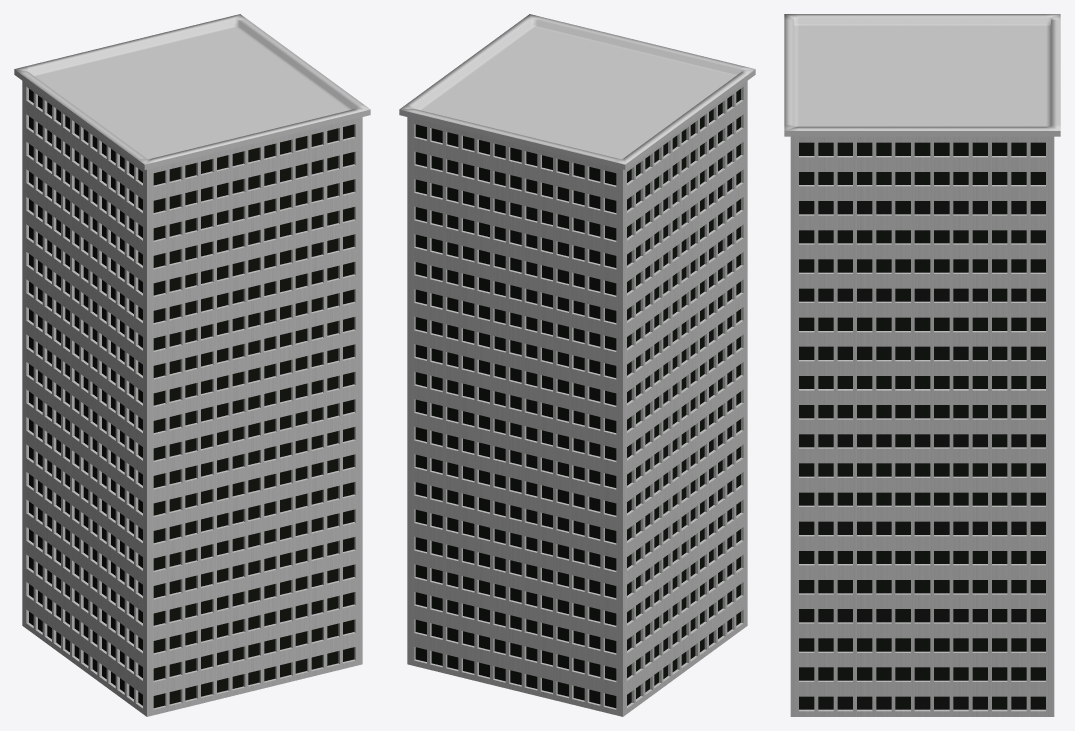
Rendered from building_2.obj.
The picture shows the model from 3 angles, left to right: view 1: azimuth 30°, elevation 25°; view 2: azimuth 150°, elevation 25°; view 3: azimuth 270°, elevation 25°; orthographic projection. The views are drawn at different scales.
Parts seen in each view (by area): view 1: building_2; view 2: building_2; view 3: building_2.
Part boxes in pixels (<box>): building_2: <box>14,14,370,716</box>; building_2: <box>399,14,755,716</box>; building_2: <box>784,14,1060,716</box>.
Bounding box in the file's own units: 43 × 101 × 43.
